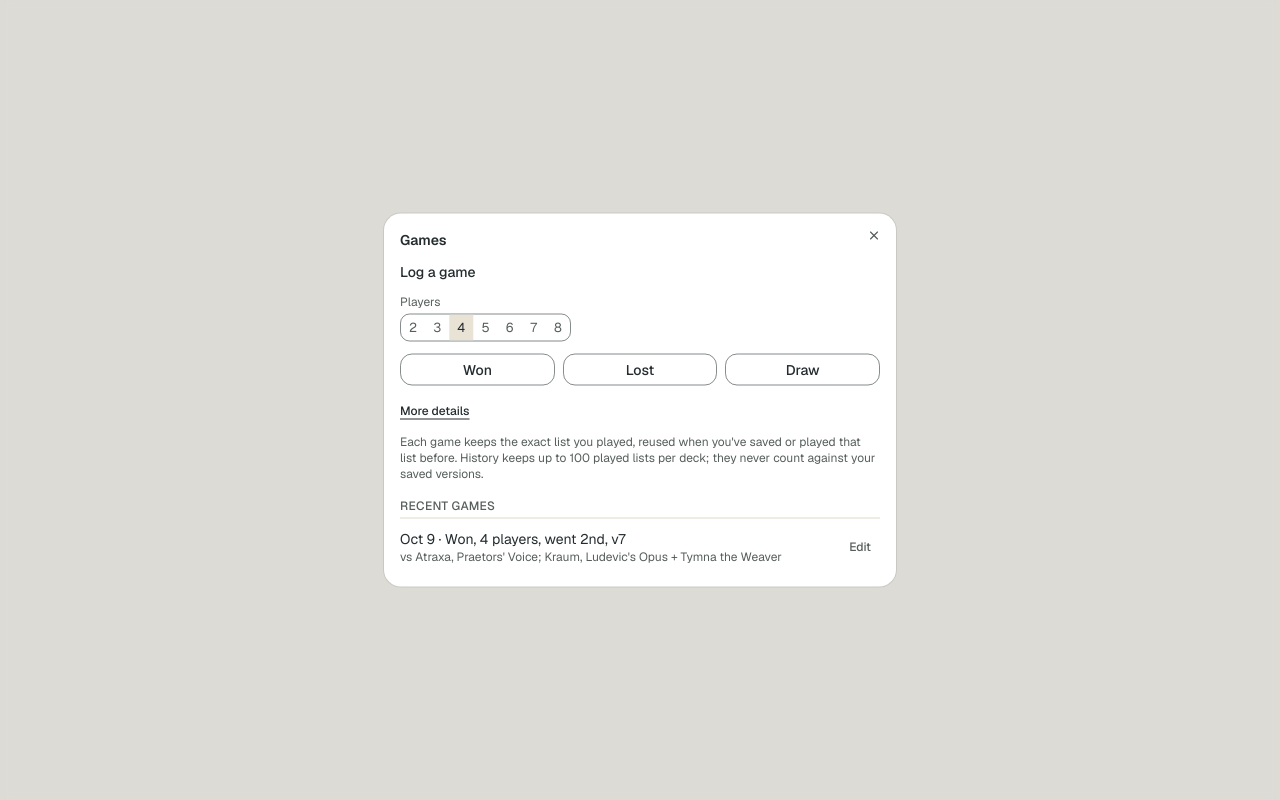
Test case: GamesDialog — the recent games, named and editable (Y10) › a turn outside 1–99 is said in the edit and sends nothing
Expected: the list is shown, [400,522,880,570]
Click the button "Edit": x=860, y=546 [840,534,880,558]
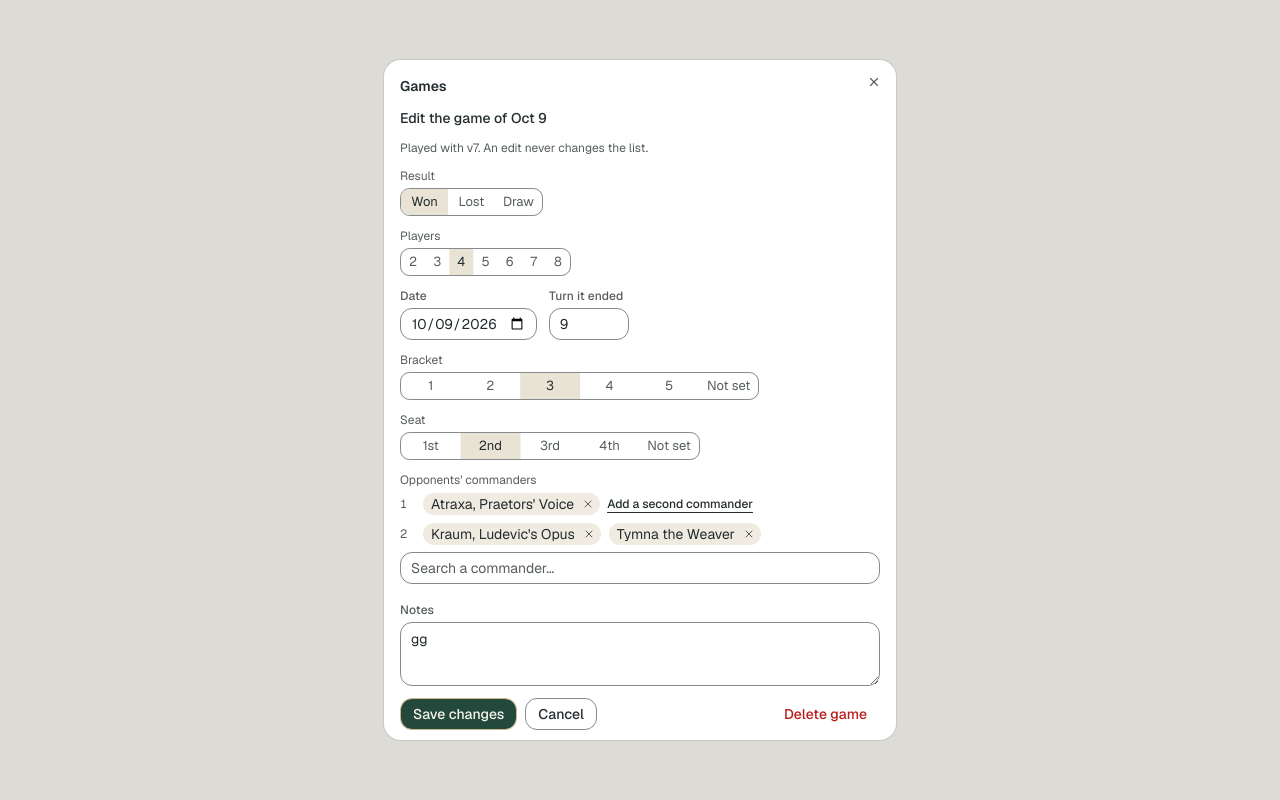
Replace the text in the number field labelled "Turn it ended" with "0": x=589, y=324 [549,308,629,340]
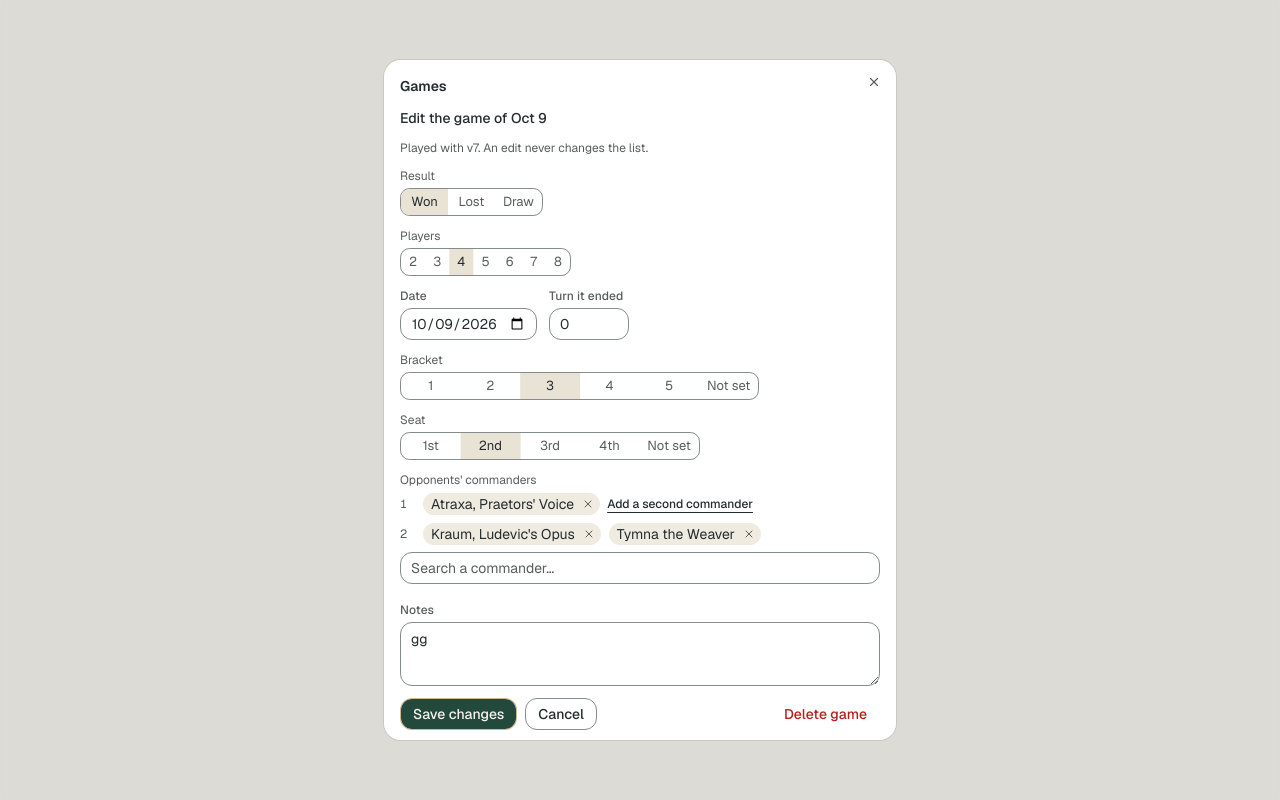
Click the button "Save changes": x=459, y=714 [400,698,517,730]
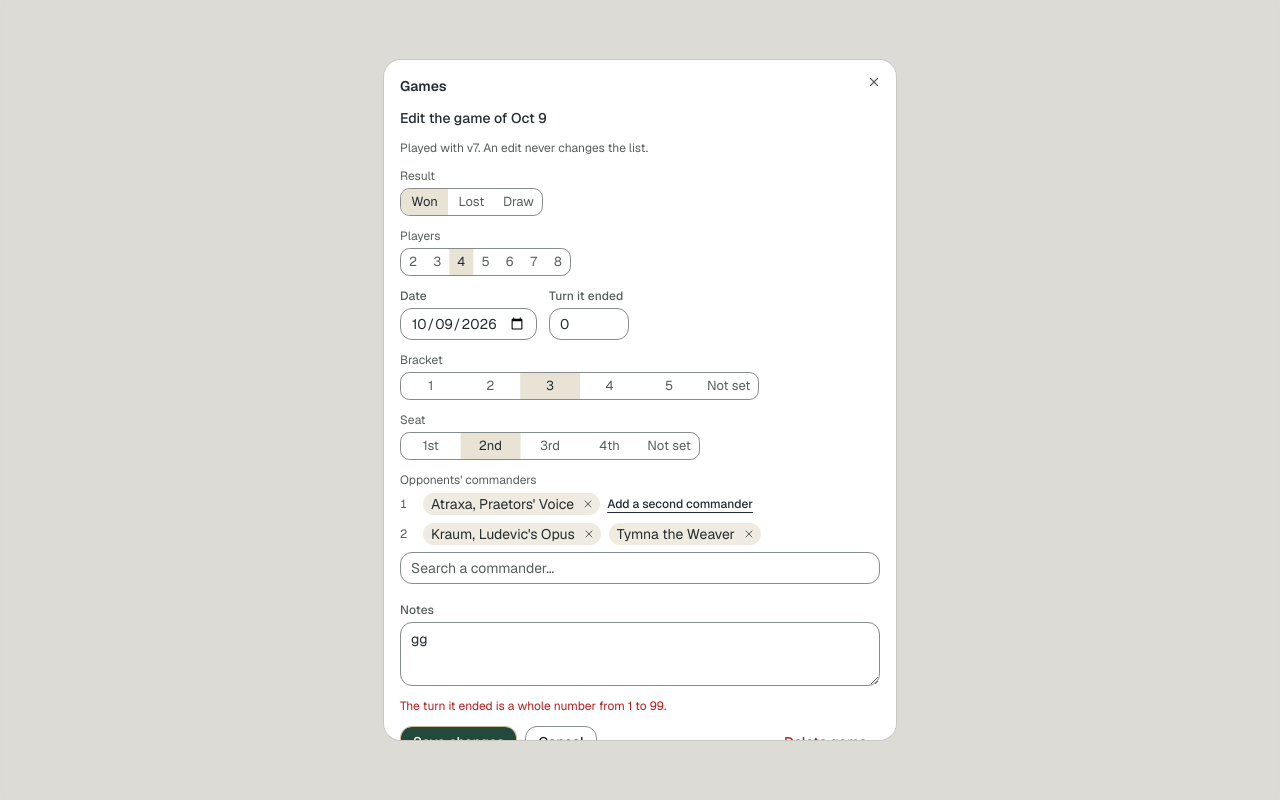
Now the element "Edit the game of" shows "The turn it ended is a whole number from 1 to 99.", box [400,698,666,714]
